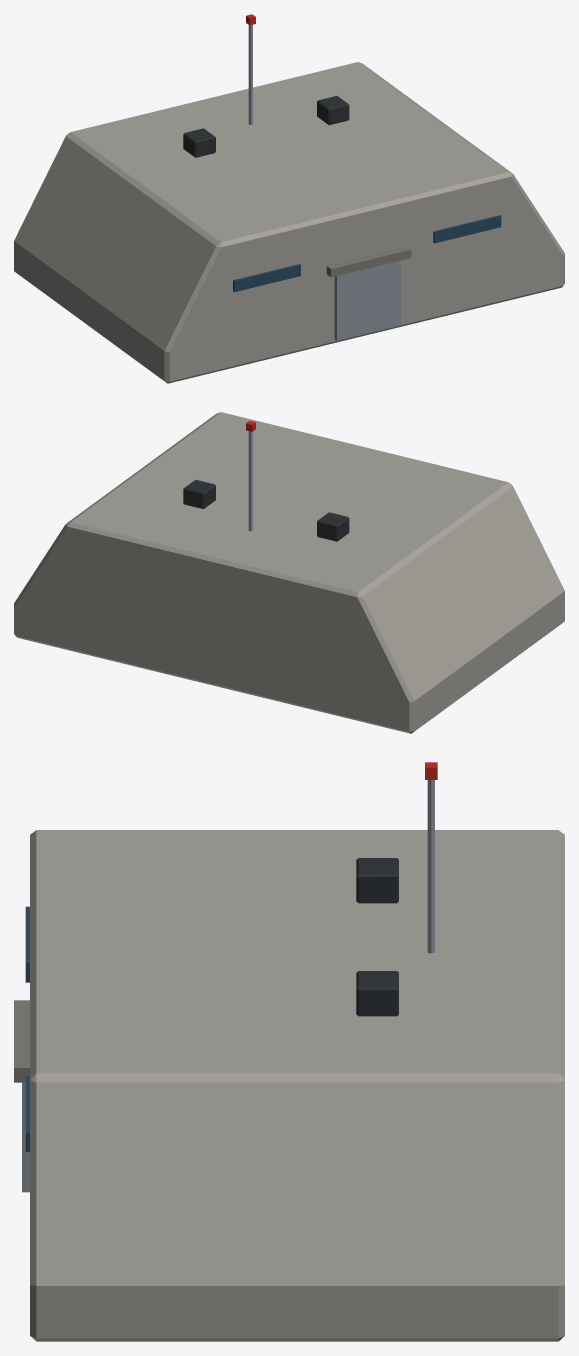
The model's file is Scenery_Bunker.fbx.
3 renders of one model, top to bottom at view 1: azimuth 30°, elevation 25°; view 2: azimuth 150°, elevation 25°; view 3: azimuth 270°, elevation 25°, orthographic. The views are drawn at different scales.
Visible parts, largest first — view 1: Scenery_Bunker; view 2: Scenery_Bunker; view 3: Scenery_Bunker.
Boxes of the visible parts, x1,y1,x2,y2 form: Scenery_Bunker: (14,14,564,383); Scenery_Bunker: (14,412,564,733); Scenery_Bunker: (14,762,564,1341).
Bounding box in the file's own units: 15 × 8.45 × 10.3.
